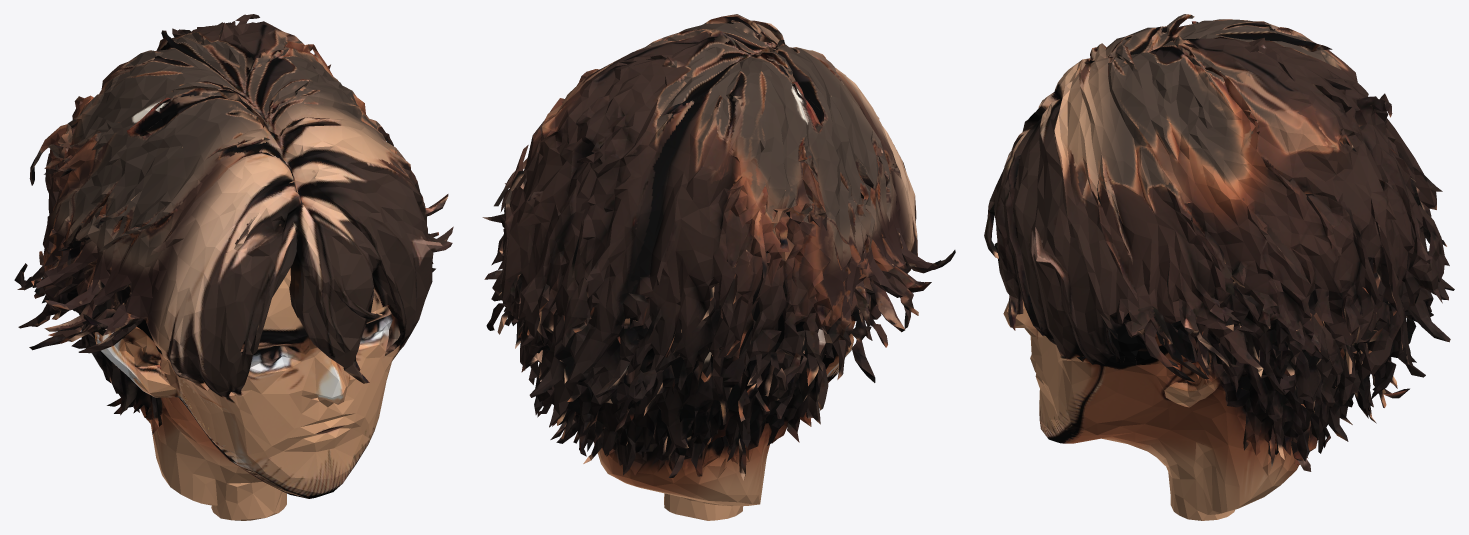
Rendered from side_h_fisherman_repaired_atlas.glb.
3 renders of one model, left to right at view 1: azimuth 30°, elevation 25°; view 2: azimuth 150°, elevation 25°; view 3: azimuth 270°, elevation 25°, orthographic. The views are drawn at different scales.
Parts seen in each view (by area): view 1: temp_mesh.ply; view 2: temp_mesh.ply; view 3: temp_mesh.ply.
Part boxes in pixels (<box>): temp_mesh.ply: <box>14,14,453,520</box>; temp_mesh.ply: <box>482,14,955,520</box>; temp_mesh.ply: <box>984,14,1454,520</box>.
Size of the model in its own units: 1.36 by 1.46 by 1.32.
1 material, 1 textured.
